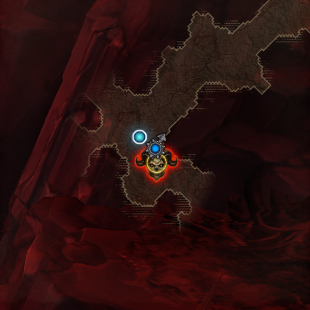Guardian: (135, 148, 177, 179)
